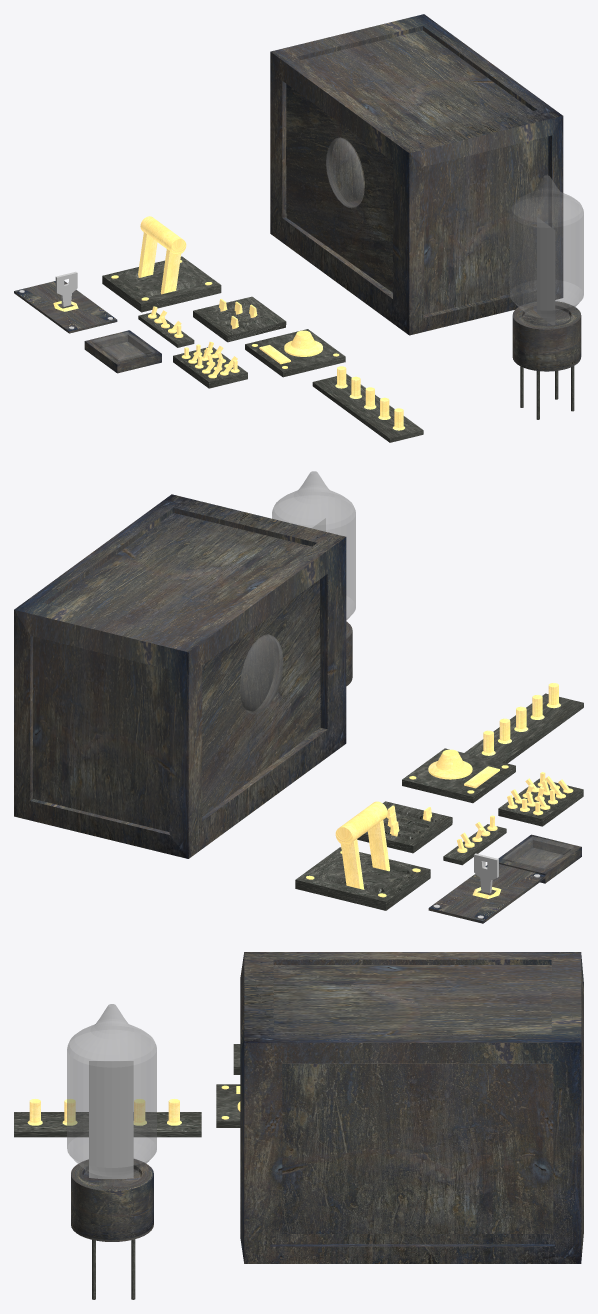
Rendered from Model_LabArtifacts.FBX.
3 views of the same model, one above another, from view 1: azimuth 30°, elevation 25°; view 2: azimuth 150°, elevation 25°; view 3: azimuth 270°, elevation 25° (orthographic). The views are drawn at different scales.
Visible parts, largest first — view 1: Box001, Tube001, Cylinder036, Cylinder035, Box036, Box043, Box002, Box044, Box040, Sphere001, Box012, quad (+8 smaller); view 2: Box001, Tube001, Box036, Cylinder036, Box043, Sphere001, Box012, Box044, Box040, Box002, Box014, glass (+6 smaller); view 3: Box001, Cylinder036, Cylinder035, quad, Box044, Box012.
Boxes of the visible parts, x1=… form: Box001: x1=270, y1=14, x2=563, y2=335; Tube001: x1=286, y1=84, x2=392, y2=292; Cylinder036: x1=509, y1=175, x2=583, y2=325; Cylinder035: x1=512, y1=301, x2=581, y2=371; Box036: x1=102, y1=256, x2=221, y2=312; Box043: x1=14, y1=281, x2=117, y2=333; Box002: x1=193, y1=296, x2=286, y2=342; Box044: x1=312, y1=374, x2=423, y2=442; Box040: x1=84, y1=330, x2=161, y2=373; Sphere001: x1=326, y1=137, x2=363, y2=208; Box012: x1=245, y1=329, x2=345, y2=377; quad: x1=537, y1=217, x2=555, y2=325; Box001: x1=14, y1=494, x2=346, y2=858; Tube001: x1=202, y1=579, x2=320, y2=816; Box036: x1=295, y1=847, x2=430, y2=910; Cylinder036: x1=272, y1=471, x2=355, y2=619; Box043: x1=428, y1=864, x2=545, y2=923; Sphere001: x1=240, y1=634, x2=283, y2=714; Box012: x1=402, y1=748, x2=515, y2=803; Box044: x1=464, y1=693, x2=583, y2=763; Box040: x1=498, y1=834, x2=581, y2=883; Box002: x1=357, y1=801, x2=452, y2=853; Box014: x1=498, y1=778, x2=583, y2=826; glass: x1=502, y1=836, x2=573, y2=870; Box001: x1=240, y1=952, x2=583, y2=1263; Cylinder036: x1=67, y1=1004, x2=156, y2=1185; Cylinder035: x1=71, y1=1159, x2=153, y2=1241; quad: x1=89, y1=1061, x2=133, y2=1178; Box044: x1=14, y1=1112, x2=201, y2=1137; Box012: x1=216, y1=1084, x2=240, y2=1127.
Bounding box in the file's own units: 192 × 105 × 189.
4 materials, 3 textured.
